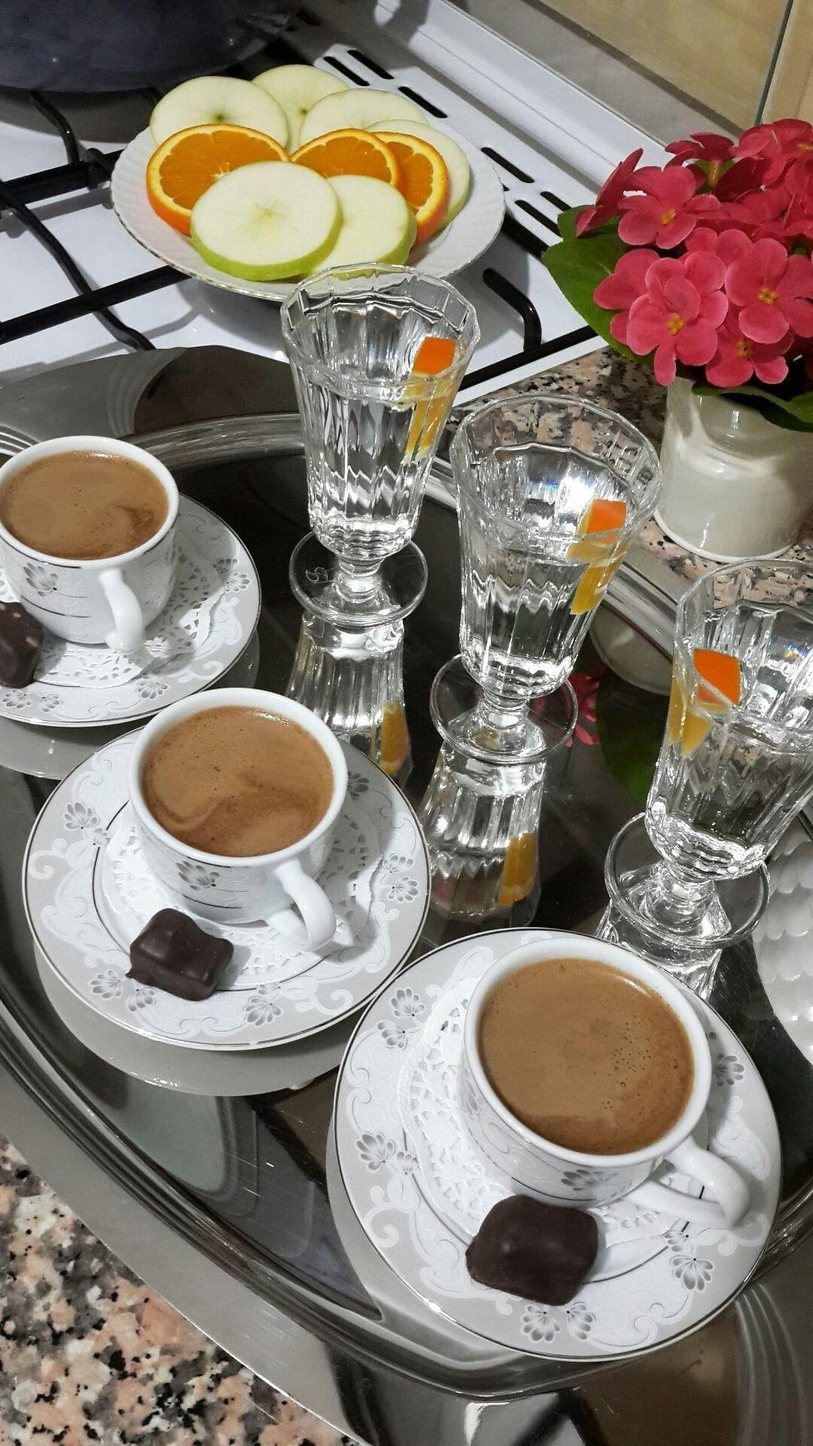cup-handle: (454, 936, 752, 1232), (126, 685, 350, 962), (1, 437, 180, 659)
glass-wine: (430, 391, 662, 764), (604, 559, 812, 953), (279, 267, 480, 634)
